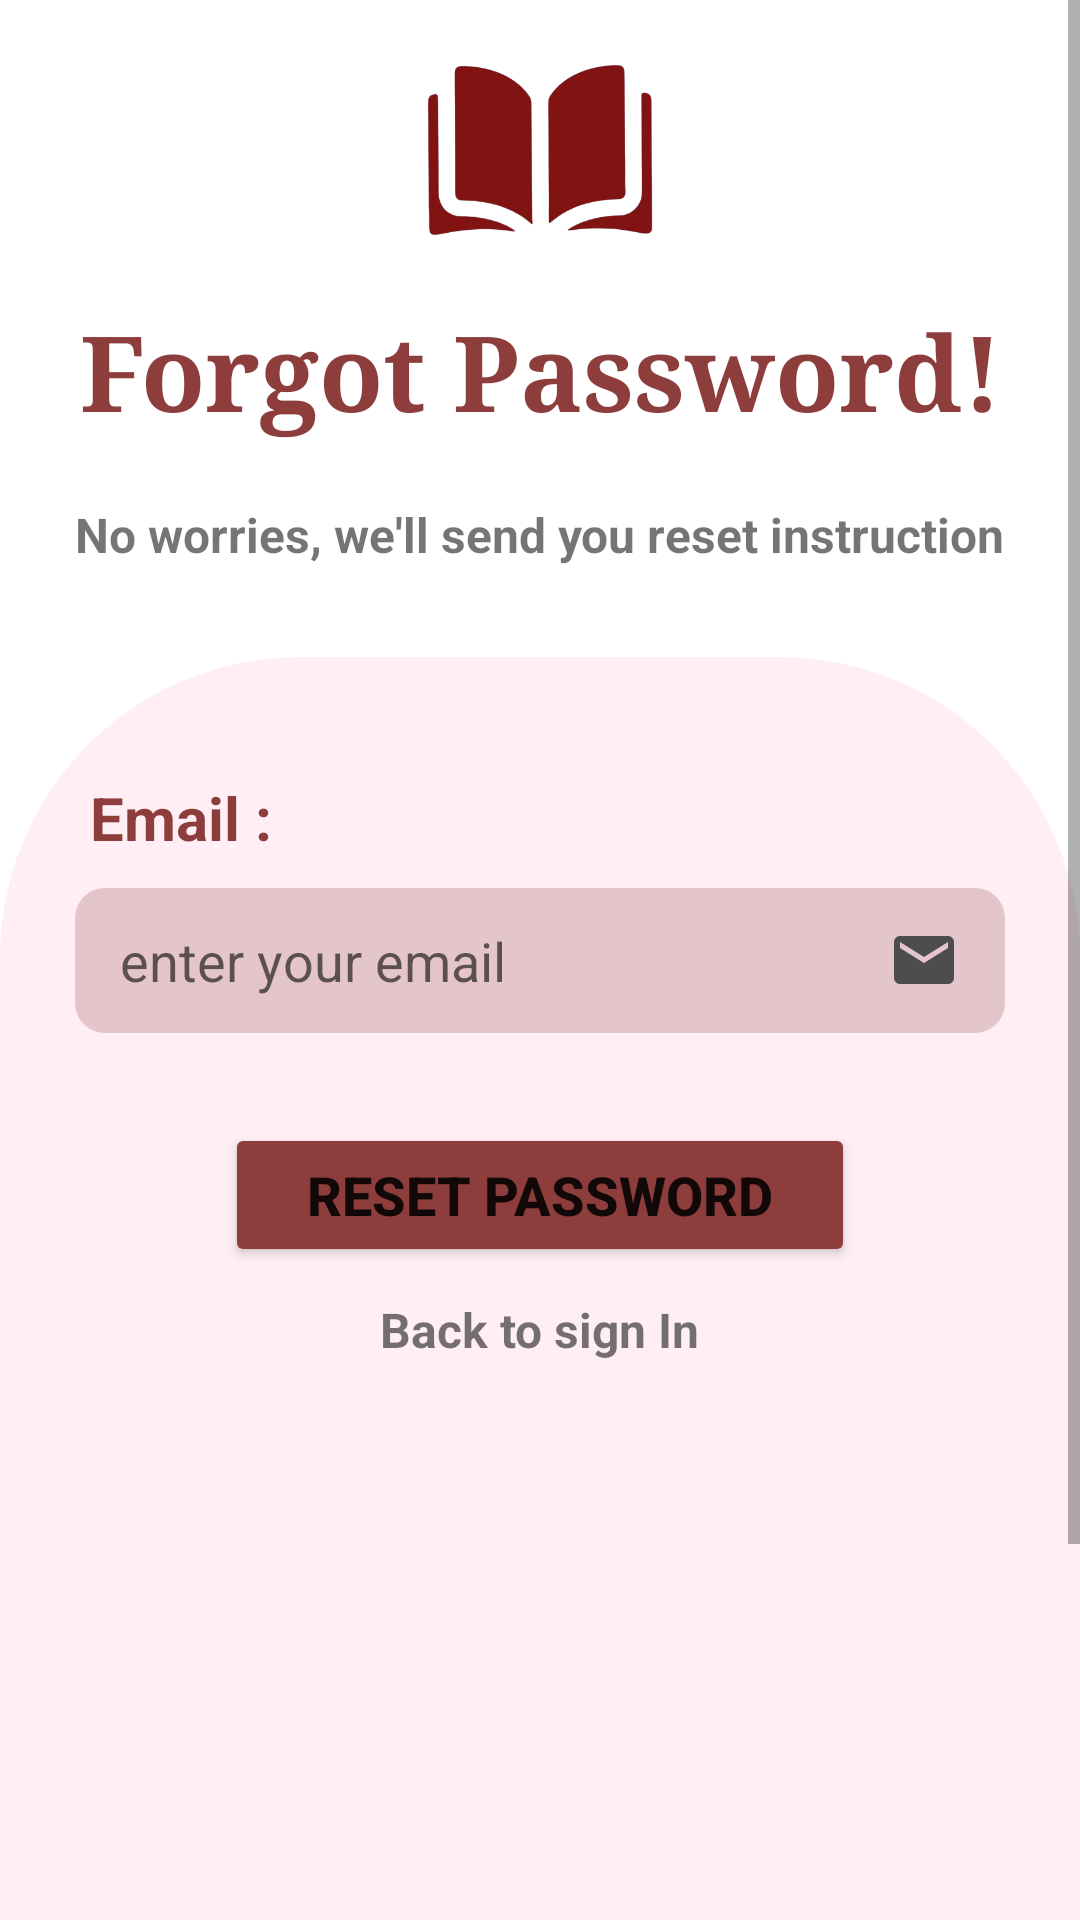

Point at icon controls on the screen. Image size 1080px x 1920px, points as (x=x, y=y).
book: (x=540, y=150)
